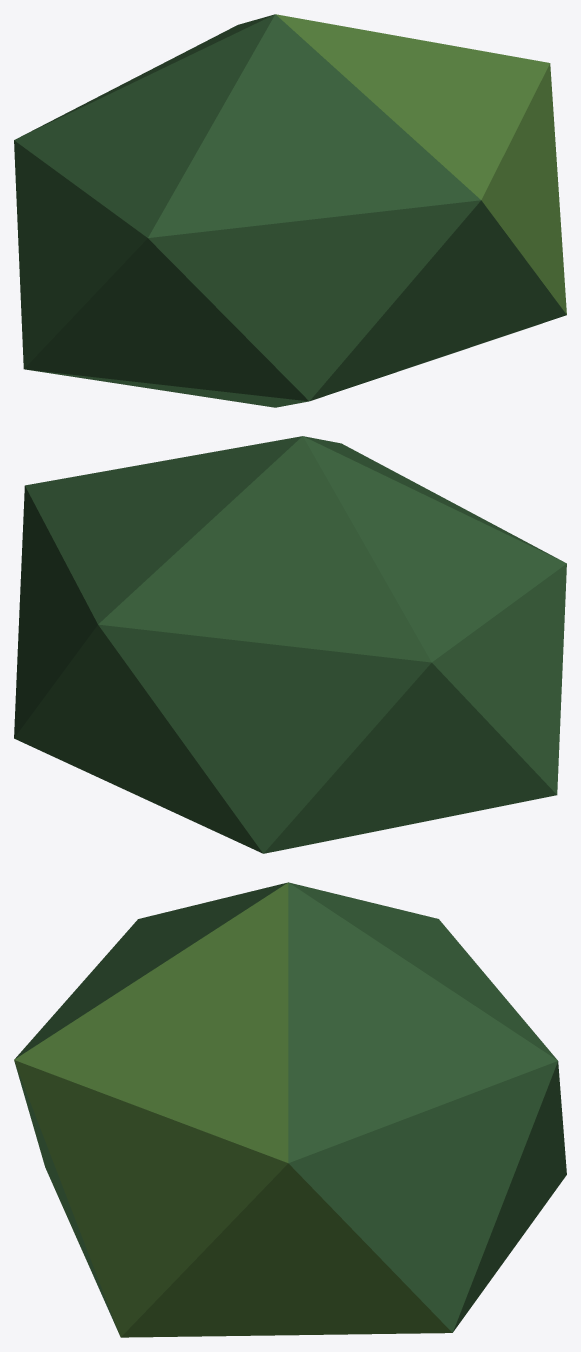
Rendered from bush.glb.
The picture shows the model from 3 angles, top to bottom: view 1: azimuth 30°, elevation 25°; view 2: azimuth 150°, elevation 25°; view 3: azimuth 270°, elevation 25°; orthographic projection. The views are drawn at different scales.
Visible parts, largest first — view 1: Alfa_bush; view 2: Alfa_bush; view 3: Alfa_bush.
Boxes of the visible parts, box(x1,y1,x2,y2) form: Alfa_bush: box(14, 14, 566, 407); Alfa_bush: box(14, 436, 566, 853); Alfa_bush: box(14, 882, 566, 1337).
Bounding box in the file's own units: 1.05 × 0.75 × 0.85.
